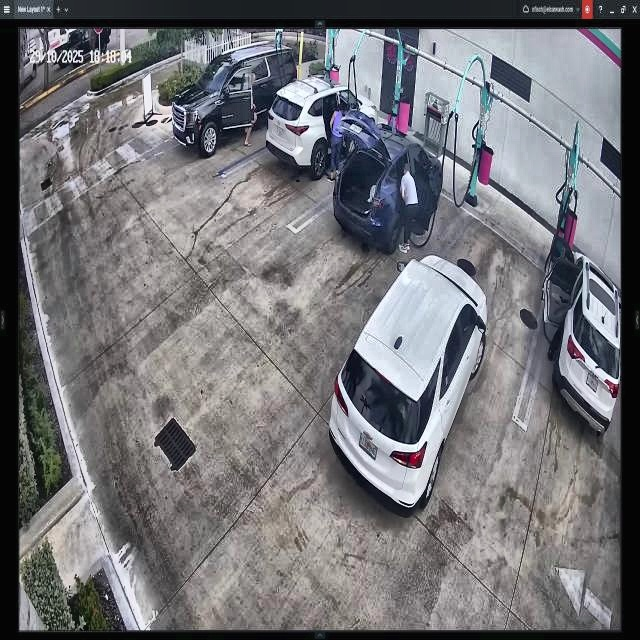Car: (329, 254, 486, 513), (332, 112, 444, 253), (171, 47, 297, 156), (267, 74, 380, 180)
